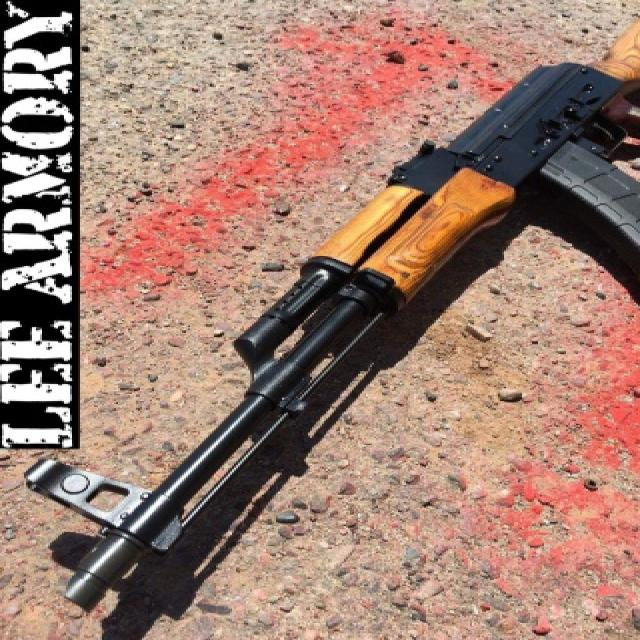rifle: (15, 35, 639, 620)
